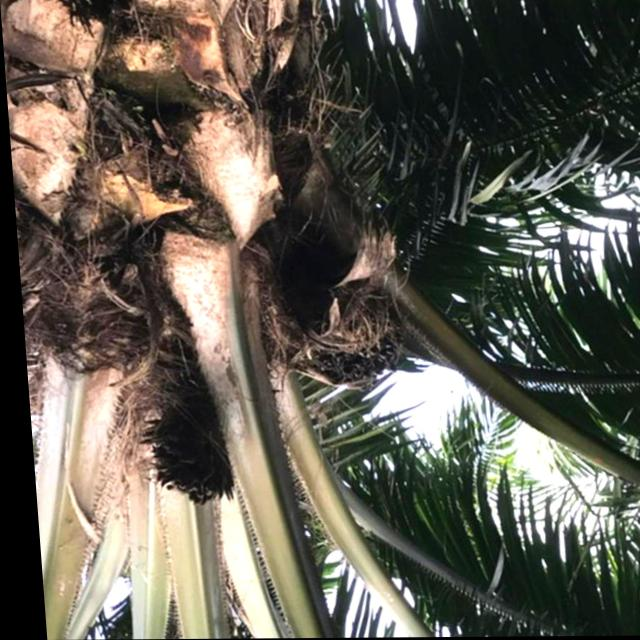almost: (253, 251, 403, 388)
